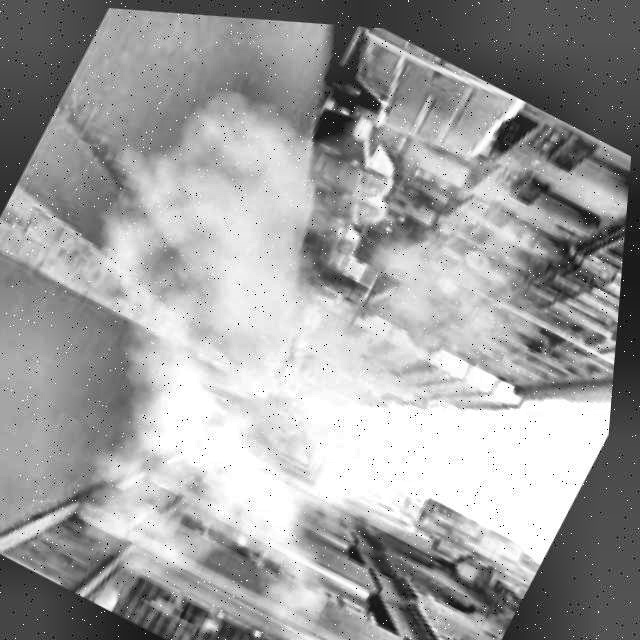Smoke: (0, 10, 630, 640)
